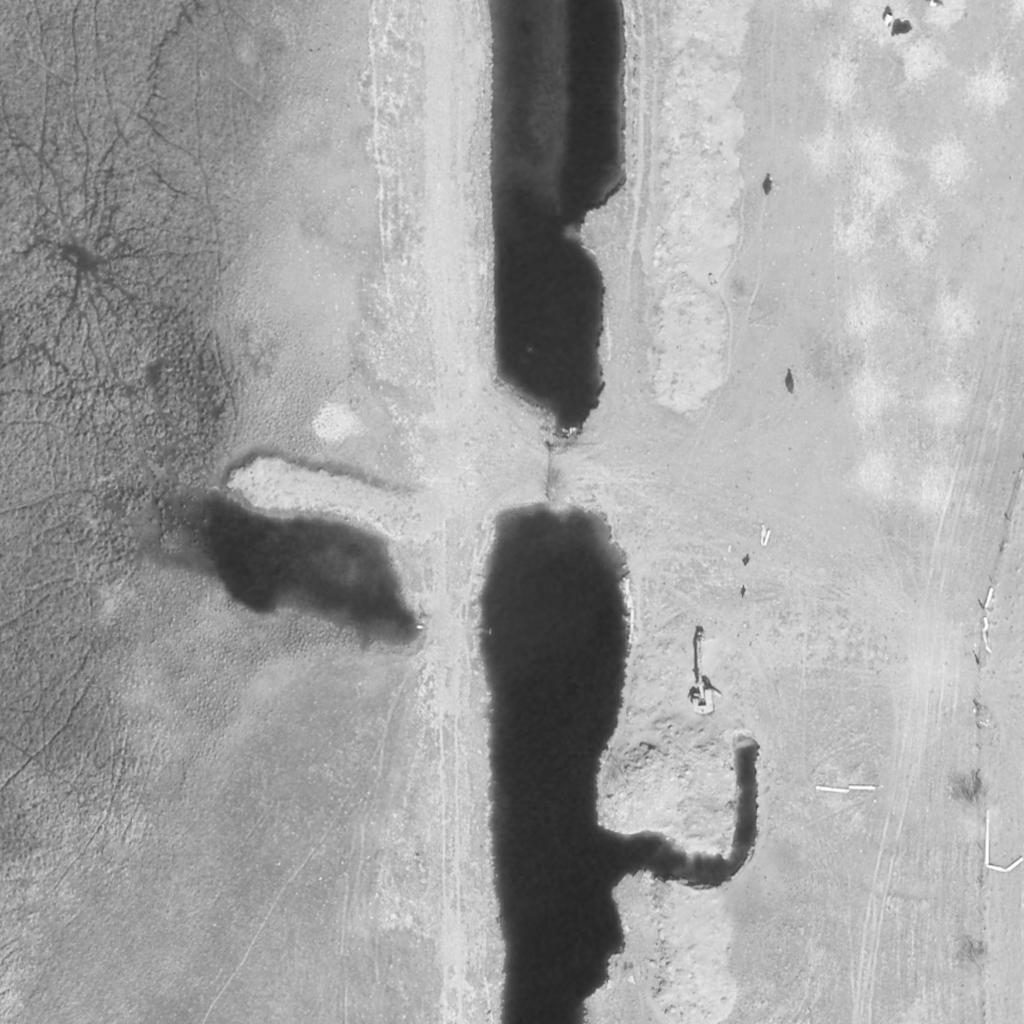vehicle: (687, 625, 719, 717)
